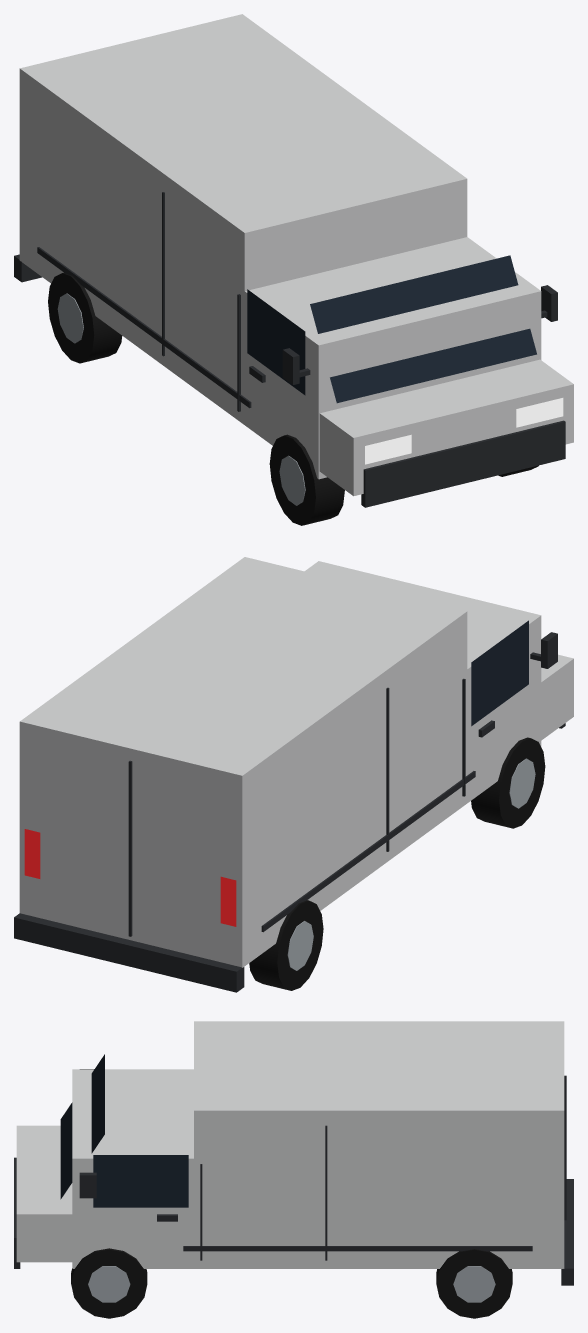
Rendered from prop_delivery_van.glb.
3 views of the same model, one above another, from view 1: azimuth 30°, elevation 25°; view 2: azimuth 150°, elevation 25°; view 3: azimuth 270°, elevation 25° (orthographic). The views are drawn at different scales.
Visible parts, largest first — view 1: object 1, object 2, object 3, object 4, object 21, wheel_fl, wheel_rl, object 5, object 9, object 19, object 11, mirror_left; view 2: object 1, object 2, object 22, wheel_fl, wheel_rl, object 5, object 3, object 9, object 23, object 12, object 20, object 10 (+1 smaller); view 3: object 1, object 2, object 3, object 13, wheel_fr, wheel_rr, object 4, object 17, object 22, mirror_right, object 23, object 18.
Boxes of the visible parts, box(x1,y1,x2,y2) form: object 1: box(19, 14, 467, 424); object 2: box(241, 237, 541, 479); object 3: box(319, 359, 573, 496); object 4: box(310, 255, 536, 403); object 21: box(361, 420, 565, 507); wheel_fl: box(269, 434, 344, 525); wheel_rl: box(48, 272, 122, 363); object 5: box(247, 289, 305, 395); object 9: box(37, 247, 251, 408); object 19: box(516, 398, 563, 427); object 11: box(365, 434, 411, 464); mirror_left: box(282, 348, 310, 384); object 1: box(19, 557, 467, 967); object 2: box(304, 561, 541, 802); object 22: box(14, 913, 244, 992); wheel_fl: box(471, 737, 545, 828); wheel_rl: box(249, 900, 323, 990); object 5: box(471, 620, 528, 726); object 3: box(541, 654, 573, 740); object 9: box(261, 771, 475, 932); object 23: box(128, 760, 132, 936); object 12: box(220, 876, 236, 926); object 20: box(24, 829, 40, 878); object 10: box(386, 687, 389, 851); object 1: box(194, 1021, 564, 1268); object 2: box(72, 1069, 199, 1268); object 3: box(16, 1125, 72, 1262); object 13: box(93, 1155, 188, 1207); wheel_fr: box(71, 1248, 147, 1318); wheel_rr: box(436, 1249, 512, 1318); object 4: box(60, 1054, 104, 1199); object 17: box(183, 1246, 532, 1251); object 22: box(561, 1179, 573, 1285); mirror_right: box(79, 1172, 96, 1198); object 23: box(564, 1075, 566, 1220); object 18: box(325, 1125, 327, 1260).
Size of the model in its own units: 2.38 by 2.16 by 5.29.
